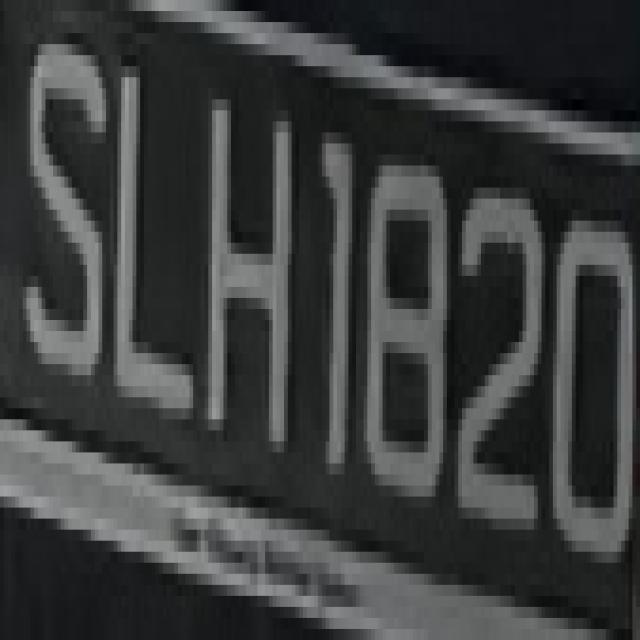0: (549, 187, 640, 596)
1: (303, 77, 360, 486)
2: (458, 154, 542, 574)
8: (360, 121, 450, 574)
H: (205, 66, 299, 475)
L: (110, 44, 197, 430)
S: (19, 11, 106, 419)
